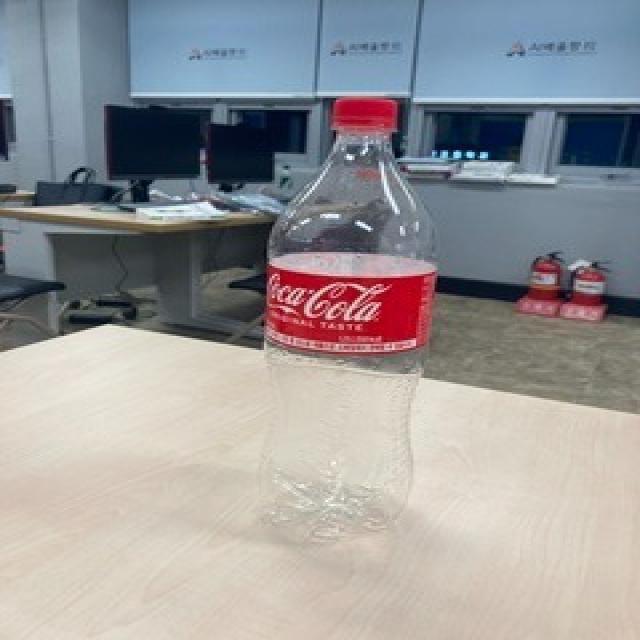good: (256, 85, 440, 563)
